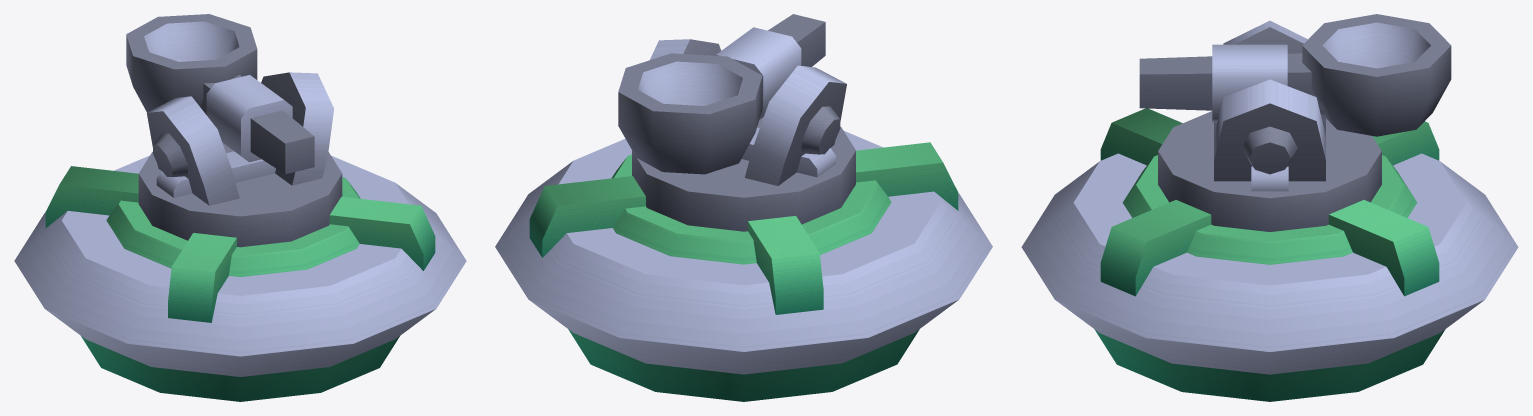
Rendered from tower-defense-kit--enemy-ufo-b-weapon.glb.
3 renders of one model, left to right at view 1: azimuth 30°, elevation 25°; view 2: azimuth 150°, elevation 25°; view 3: azimuth 270°, elevation 25°, orthographic. The views are drawn at different scales.
Parts seen in each view (by area): view 1: enemy-ufo-b-weapon, catapult; view 2: enemy-ufo-b-weapon, catapult; view 3: enemy-ufo-b-weapon, catapult.
Boxes of the visible parts, left/top/right/bottom form: enemy-ufo-b-weapon: left=14, top=72, right=466, bottom=401; catapult: left=126, top=14, right=314, bottom=174; enemy-ufo-b-weapon: left=495, top=39, right=992, bottom=401; catapult: left=618, top=14, right=825, bottom=174; enemy-ufo-b-weapon: left=1021, top=20, right=1518, bottom=401; catapult: left=1139, top=14, right=1451, bottom=136.
Size of the model in its own units: 0.9994 by 0.6256 by 1.
Materials: 1 (1 with a texture image).
